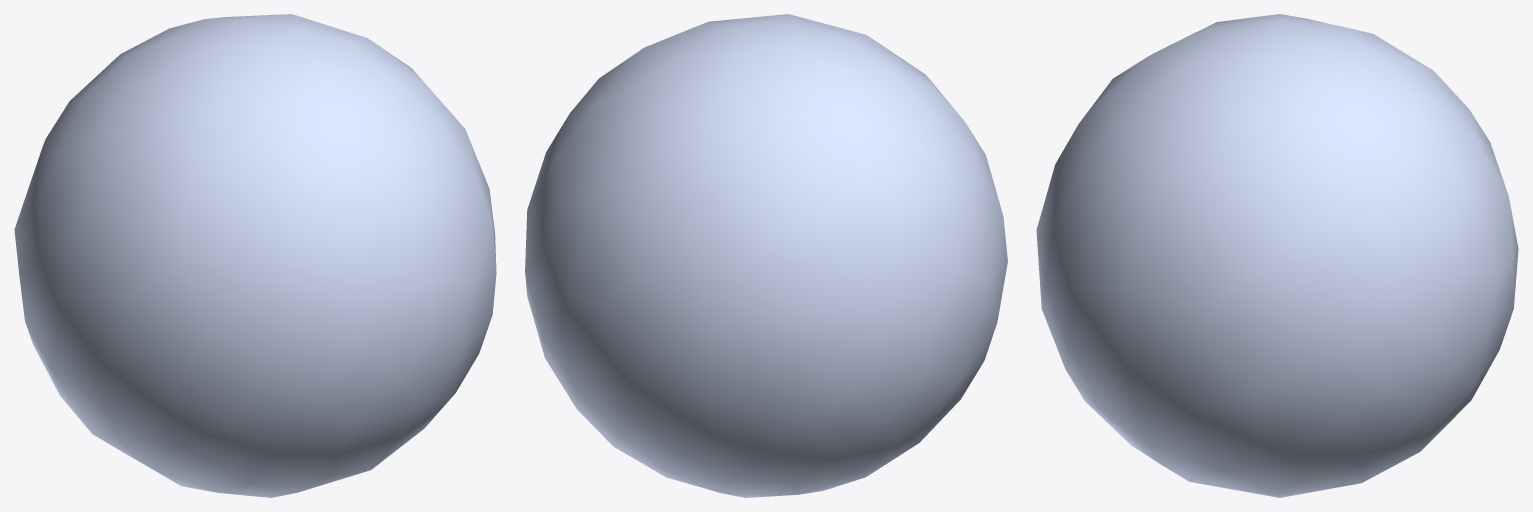
Rendered from Planet_Base_Low.fbx.
3 renders of one model, left to right at view 1: azimuth 30°, elevation 25°; view 2: azimuth 150°, elevation 25°; view 3: azimuth 270°, elevation 25°, orthographic.
Parts seen in each view (by area): view 1: BaseLow; view 2: BaseLow; view 3: BaseLow.
Boxes of the visible parts, bbox=[...] form: BaseLow: bbox=[14, 14, 496, 497]; BaseLow: bbox=[525, 14, 1007, 497]; BaseLow: bbox=[1036, 14, 1518, 497].
Size of the model in its own units: 2 by 2 by 2.
